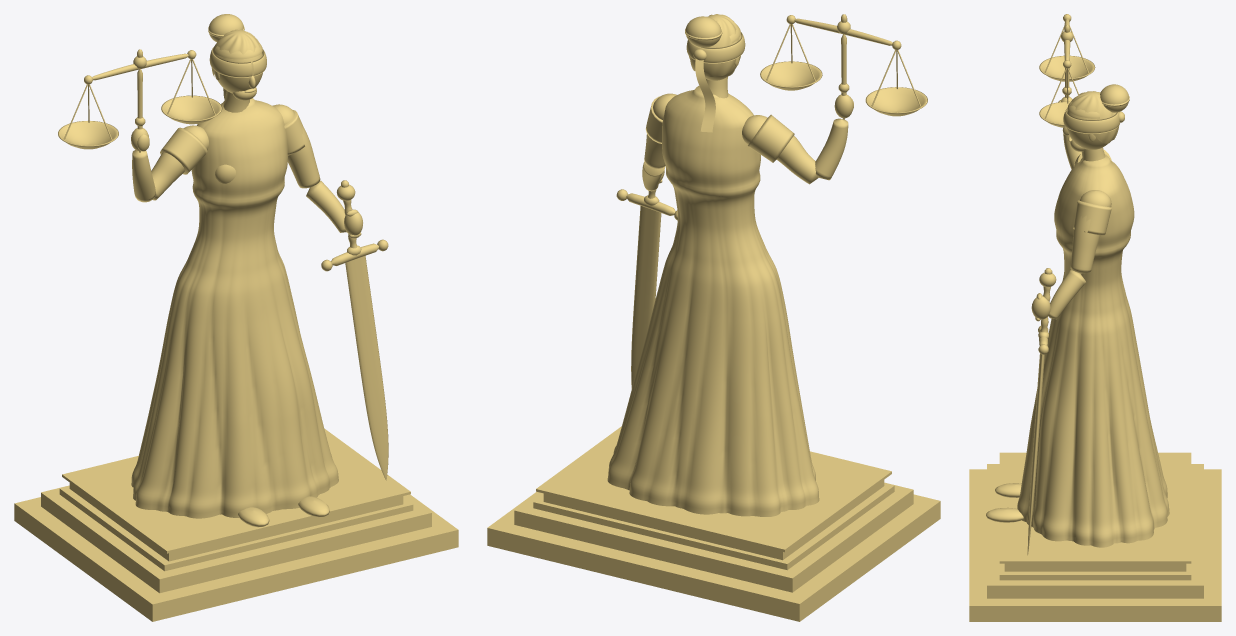
Rendered from statue.glb.
3 views of the same model, side by side, from view 1: azimuth 30°, elevation 25°; view 2: azimuth 150°, elevation 25°; view 3: azimuth 270°, elevation 25° (orthographic). The views are drawn at different scales.
Parts seen in each view (by area): view 1: LadyJustice; view 2: LadyJustice; view 3: LadyJustice.
Part boxes in pixels (<box>): LadyJustice: <box>14,14,458,621</box>; LadyJustice: <box>487,14,940,621</box>; LadyJustice: <box>969,14,1221,621</box>.
Size of the model in its own units: 71.73 by 105 by 50.
